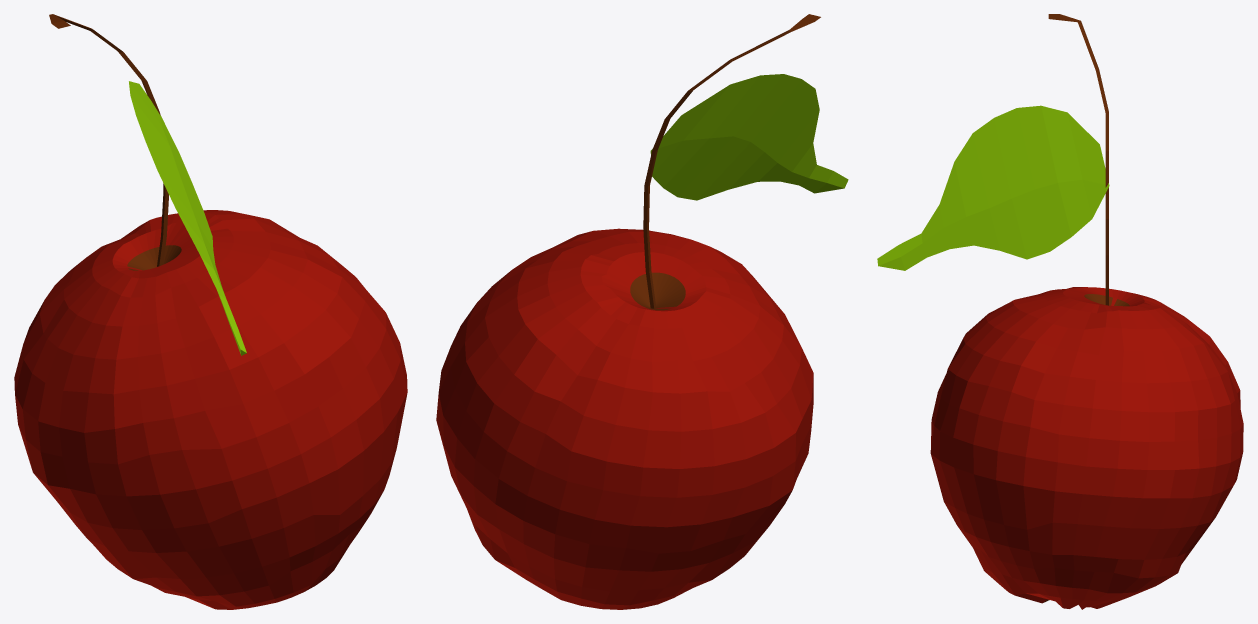
File: apple2.fbx
The picture shows the model from 3 angles, left to right: view 1: azimuth 30°, elevation 25°; view 2: azimuth 150°, elevation 25°; view 3: azimuth 270°, elevation 25°; orthographic projection. The views are drawn at different scales.
Parts seen in each view (by area): view 1: Sphere_001; view 2: Sphere_001; view 3: Sphere_001.
Part boxes in pixels (x1,y1,x2,y2): Sphere_001: [14, 14, 407, 609]; Sphere_001: [436, 14, 848, 609]; Sphere_001: [877, 14, 1243, 609].
Bounding box in the file's own units: 2.04 × 3.55 × 2.32.
